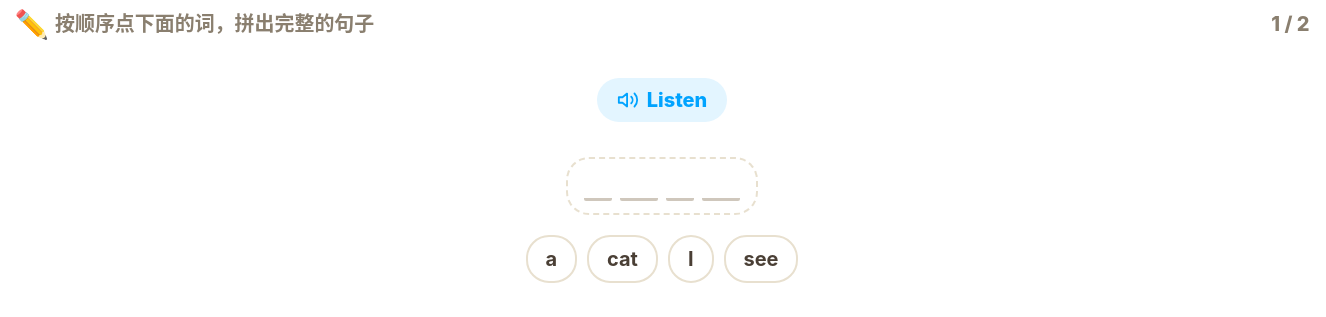
Test case: OrderView › 句子槽按目标词数显示横线占位（不再只有一个问号），拼一个少一条
Expected: the number of elements with class "slot-empty" is 4, [584,171,612,201]; [620,171,658,201]; [666,171,694,201]; [702,171,740,201]
# 放一个词进槽：横线 −1，实词 +1
Click the button with class "word-chip" showing "a".
click(551, 259)  # box [526,235,577,283]
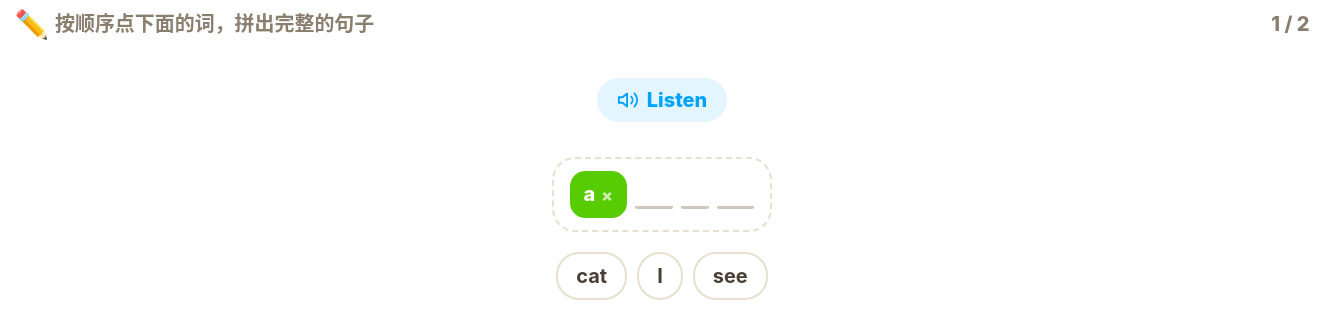
Now the number of elements with class "slot-empty" is 3, box [635,179,673,209]; [681,179,709,209]; [717,179,754,209]
Now the number of elements with class "slot-word" is 1, box [570,171,627,218]
